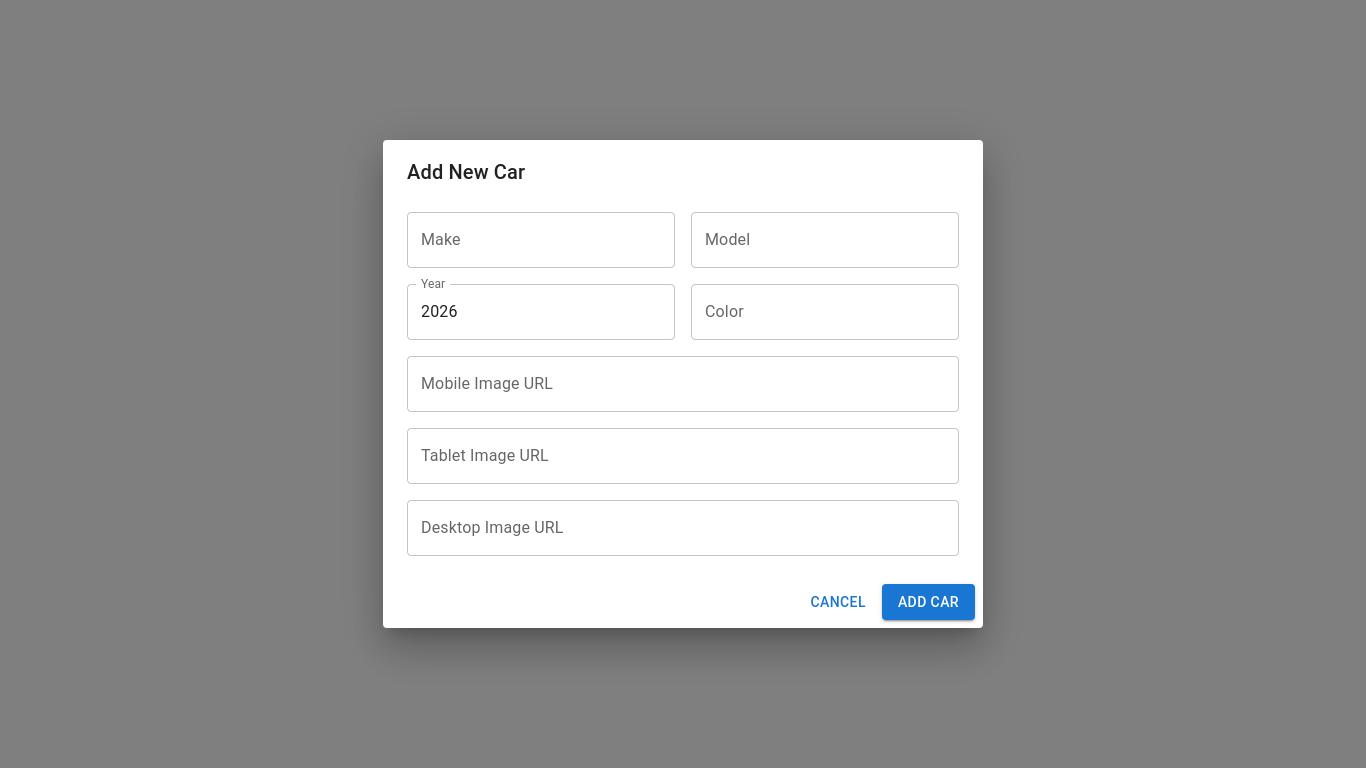
AddCarForm › validates year field correctly
The image size is (1366, 768).
Replace the text in the number field labelled "Year" with "1800". click: (541, 312)
box: [407,284,675,340]
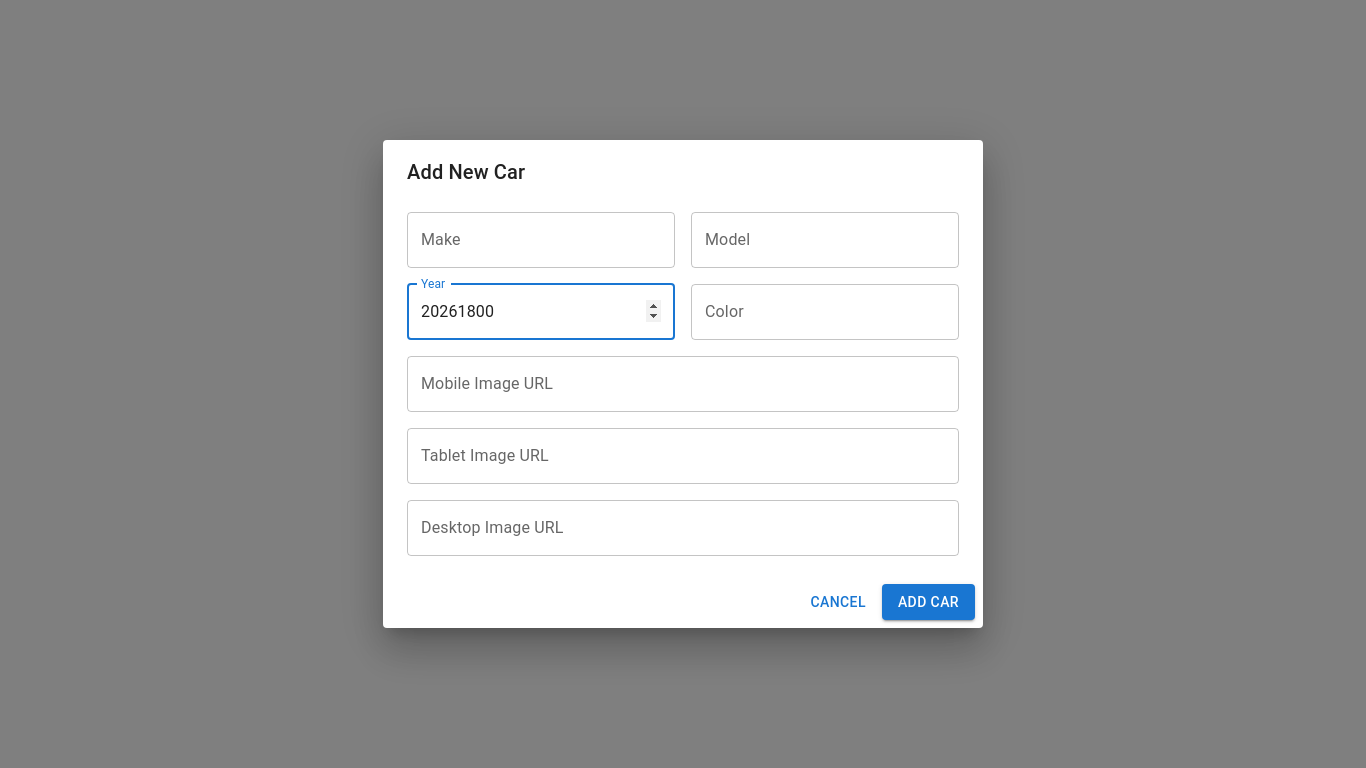
Click the button "Add Car". click: (928, 602)
box: [882,584,975,620]
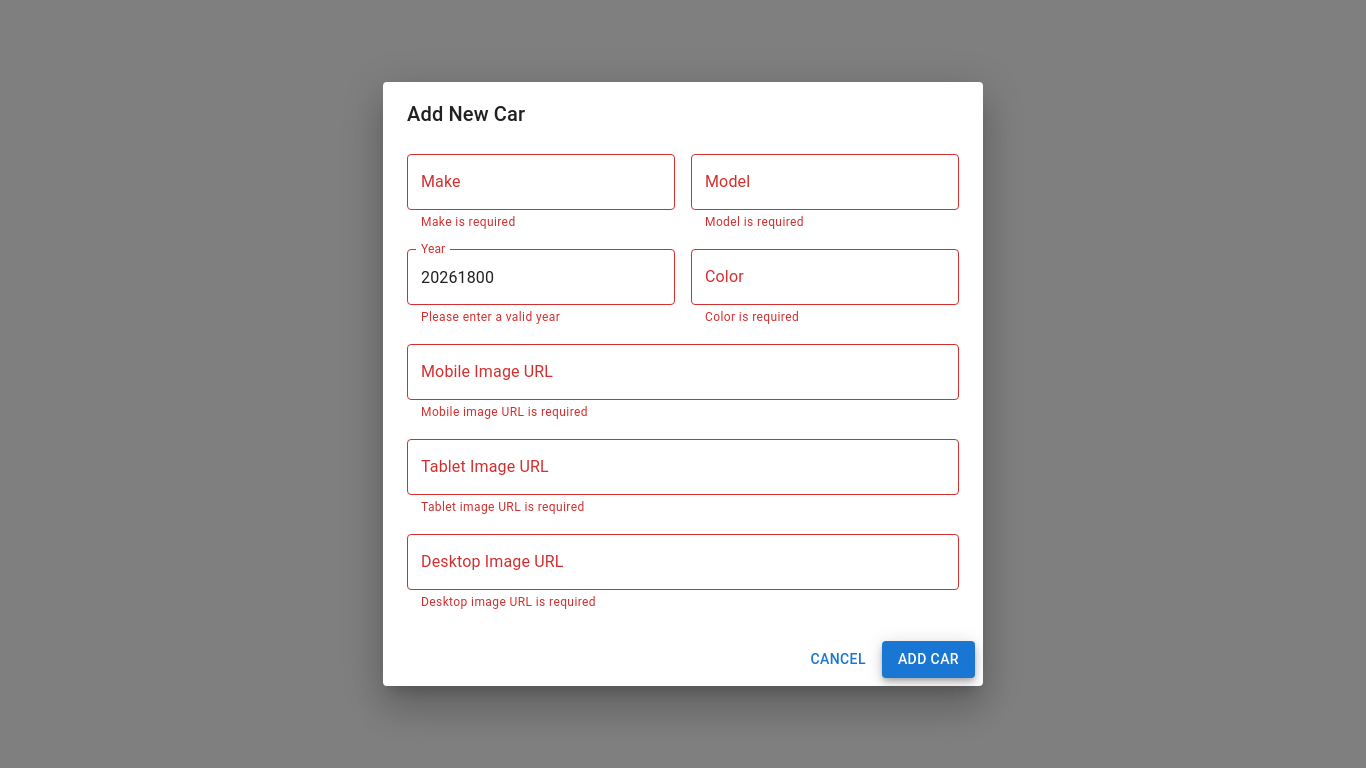
Result: the text "Please enter a valid year" is shown at [421,310,560,324]
